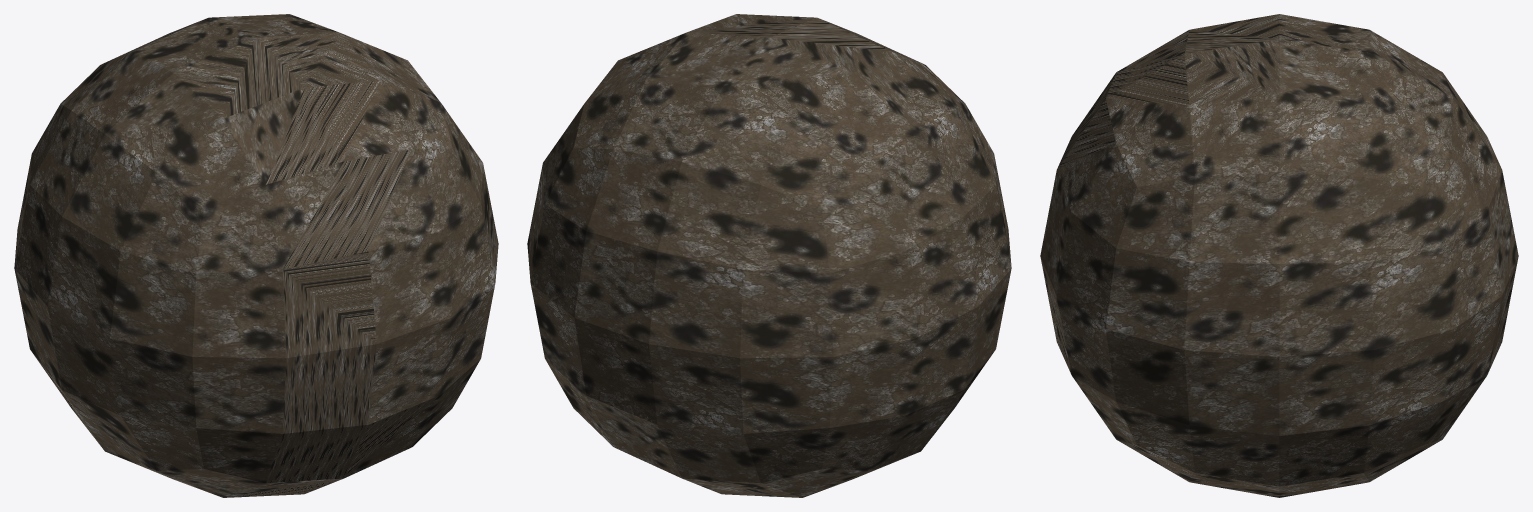
Rendered from interGoopRock2.glb.
3 views of the same model, side by side, from view 1: azimuth 30°, elevation 25°; view 2: azimuth 150°, elevation 25°; view 3: azimuth 270°, elevation 25° (orthographic).
Parts seen in each view (by area): view 1: Planet2.mdd; view 2: Planet2.mdd; view 3: Planet2.mdd.
Part boxes in pixels (x1,y1,x2,y2): Planet2.mdd: (14,14,498,497); Planet2.mdd: (527,14,1011,497); Planet2.mdd: (1040,14,1518,497).
Size of the model in its own units: 1.68 by 1.68 by 1.68.
Materials: 1 (1 with a texture image).
